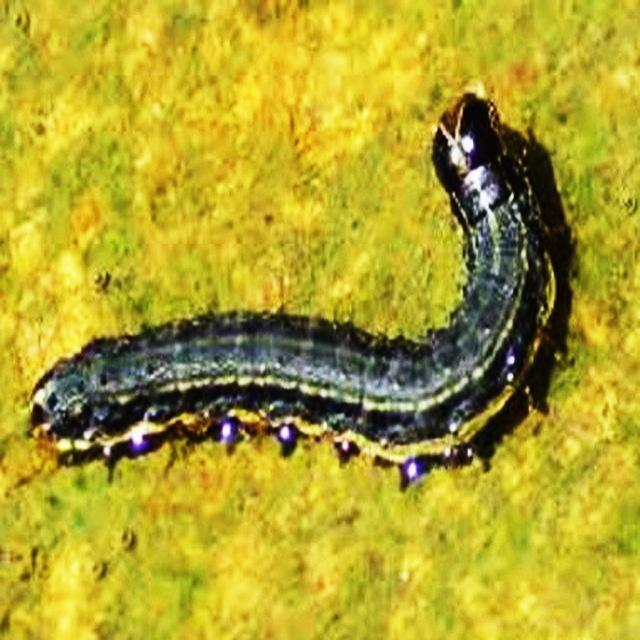Plaga: (28, 86, 565, 490)
